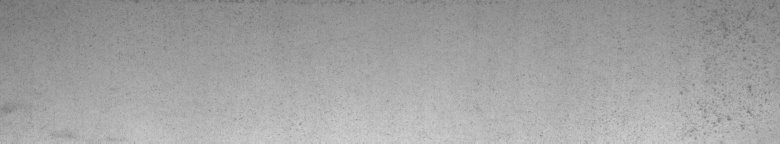ib: (690, 9, 770, 136)
